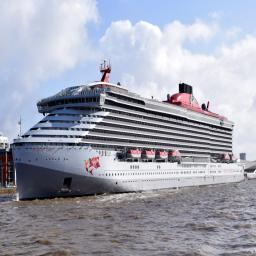cruises: (10, 59, 248, 205)
